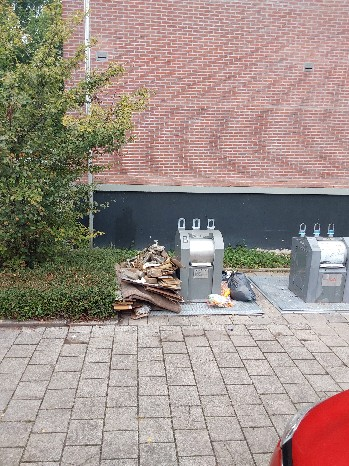Container: (179, 222, 226, 309), (291, 229, 335, 299)
Rest: (124, 239, 168, 311), (222, 264, 259, 298)
